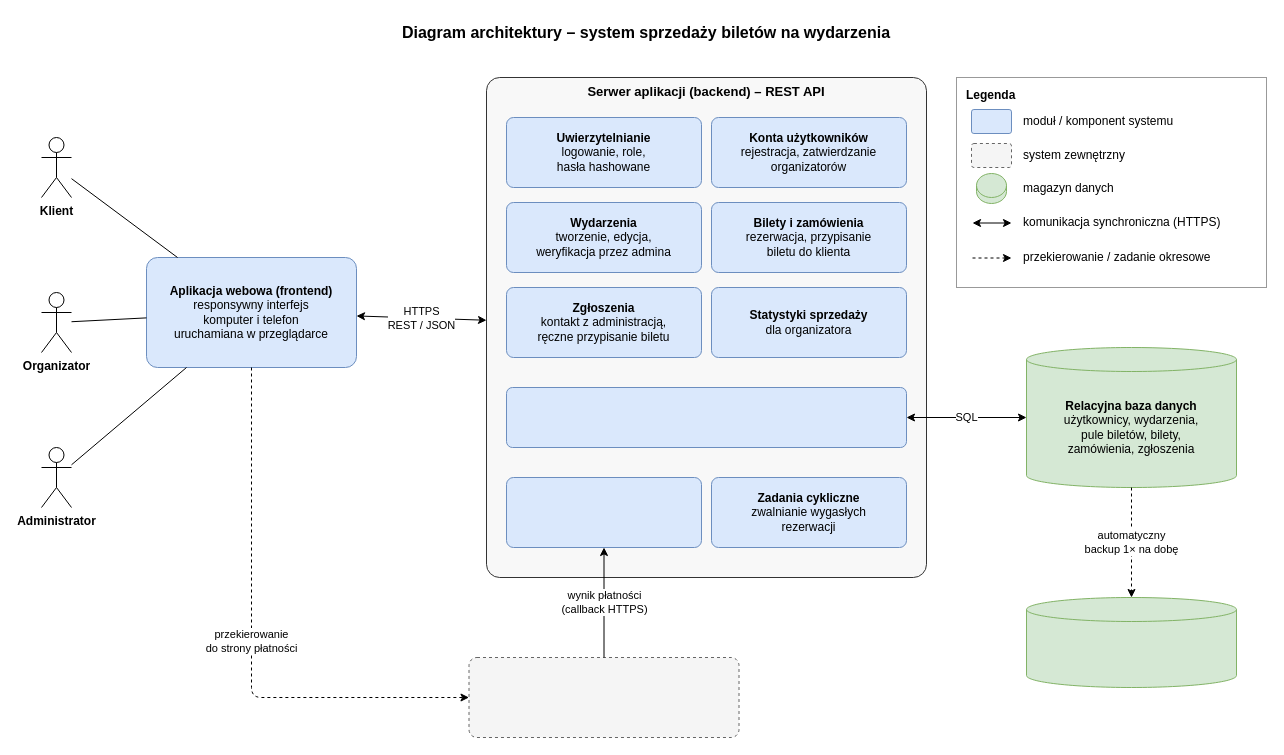
Image size: 1284x755. Some labels were removed from this diagram. Here are the shapes that lost their labels. From the top down, the centre of each, then its label:
At [706,417]: "Warstwa dostępu do danych transakcje – brak podwójnej sprzedaży biletu".
At [604,512]: "Integracja płatności obsługa wyniku płatności".
At [1131,642]: "Kopia zapasowa bazy przechowywana min. 7 dni".
At [603,697]: "Zewnętrzny system płatności (atrapa – osobna strona, zwraca: sukces / błąd)".
